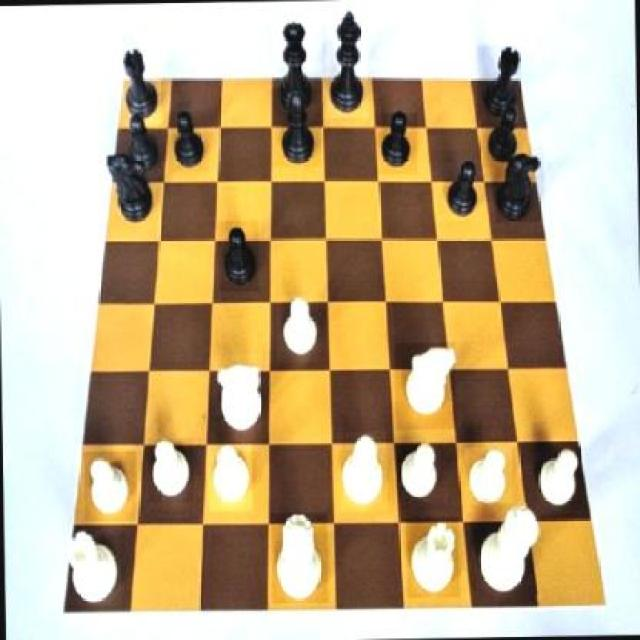bishop: (272, 88, 322, 168)
black-bishop: (324, 6, 368, 119)
black-king: (494, 143, 544, 223), (108, 150, 157, 228)
black-knight: (218, 218, 260, 292), (482, 103, 528, 169), (374, 112, 418, 175), (166, 109, 209, 172), (445, 162, 482, 219)
black-pawn: (270, 15, 314, 118)
black-queen: (120, 46, 161, 126), (477, 46, 521, 120)
black-rook: (337, 432, 387, 513)
white-bishop: (472, 503, 540, 596)
white-king: (394, 343, 456, 431), (214, 354, 271, 431)
white-knight: (84, 449, 138, 519), (396, 442, 442, 511), (466, 448, 514, 512), (277, 294, 320, 364), (208, 443, 252, 511), (148, 438, 194, 502), (531, 446, 580, 506)
white-pawn: (270, 512, 328, 603)
white-queen: (65, 526, 122, 606), (406, 518, 459, 598)
